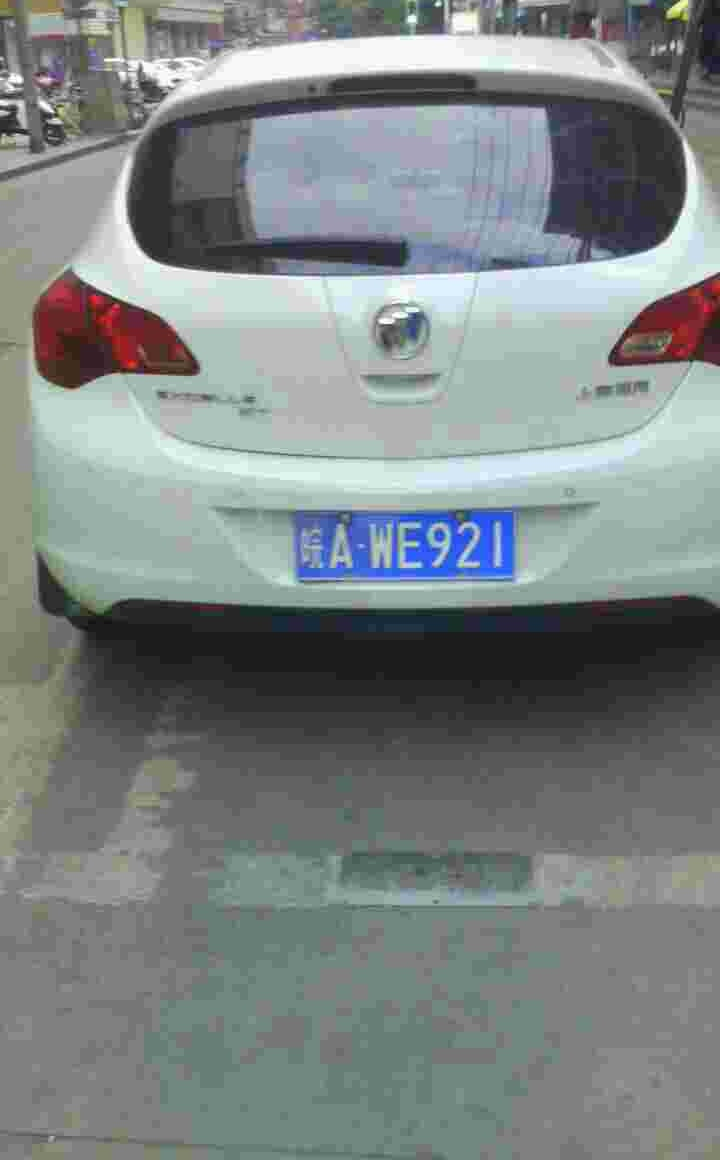license_plate: (307, 520, 527, 584)
